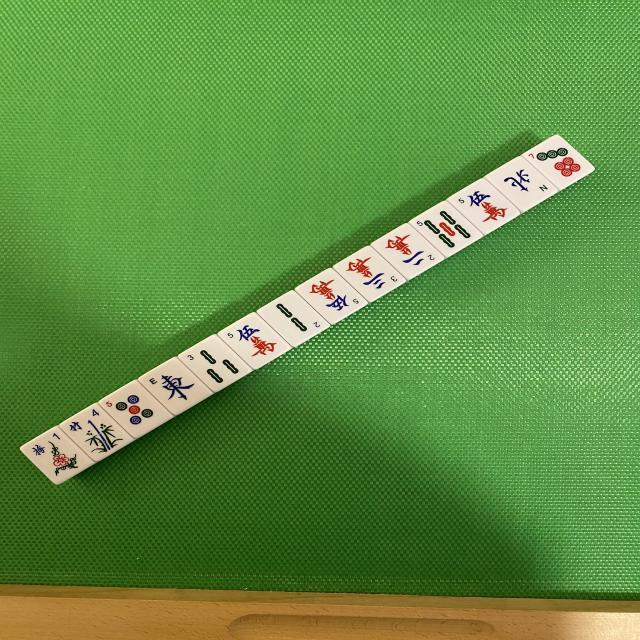bf1: (22, 426, 88, 487)
bf4: (64, 402, 130, 465)
hwe: (137, 355, 209, 418)
hwn: (482, 160, 558, 203)
sb2: (260, 288, 330, 350)
sb3: (178, 332, 250, 396)
sb5: (413, 199, 484, 263)
sc2: (370, 232, 444, 274)
sc3: (334, 243, 405, 307)
sc5: (296, 266, 368, 330), (219, 311, 289, 373), (448, 187, 516, 224)
sd5: (98, 379, 172, 441)
sd7: (524, 134, 592, 193)
